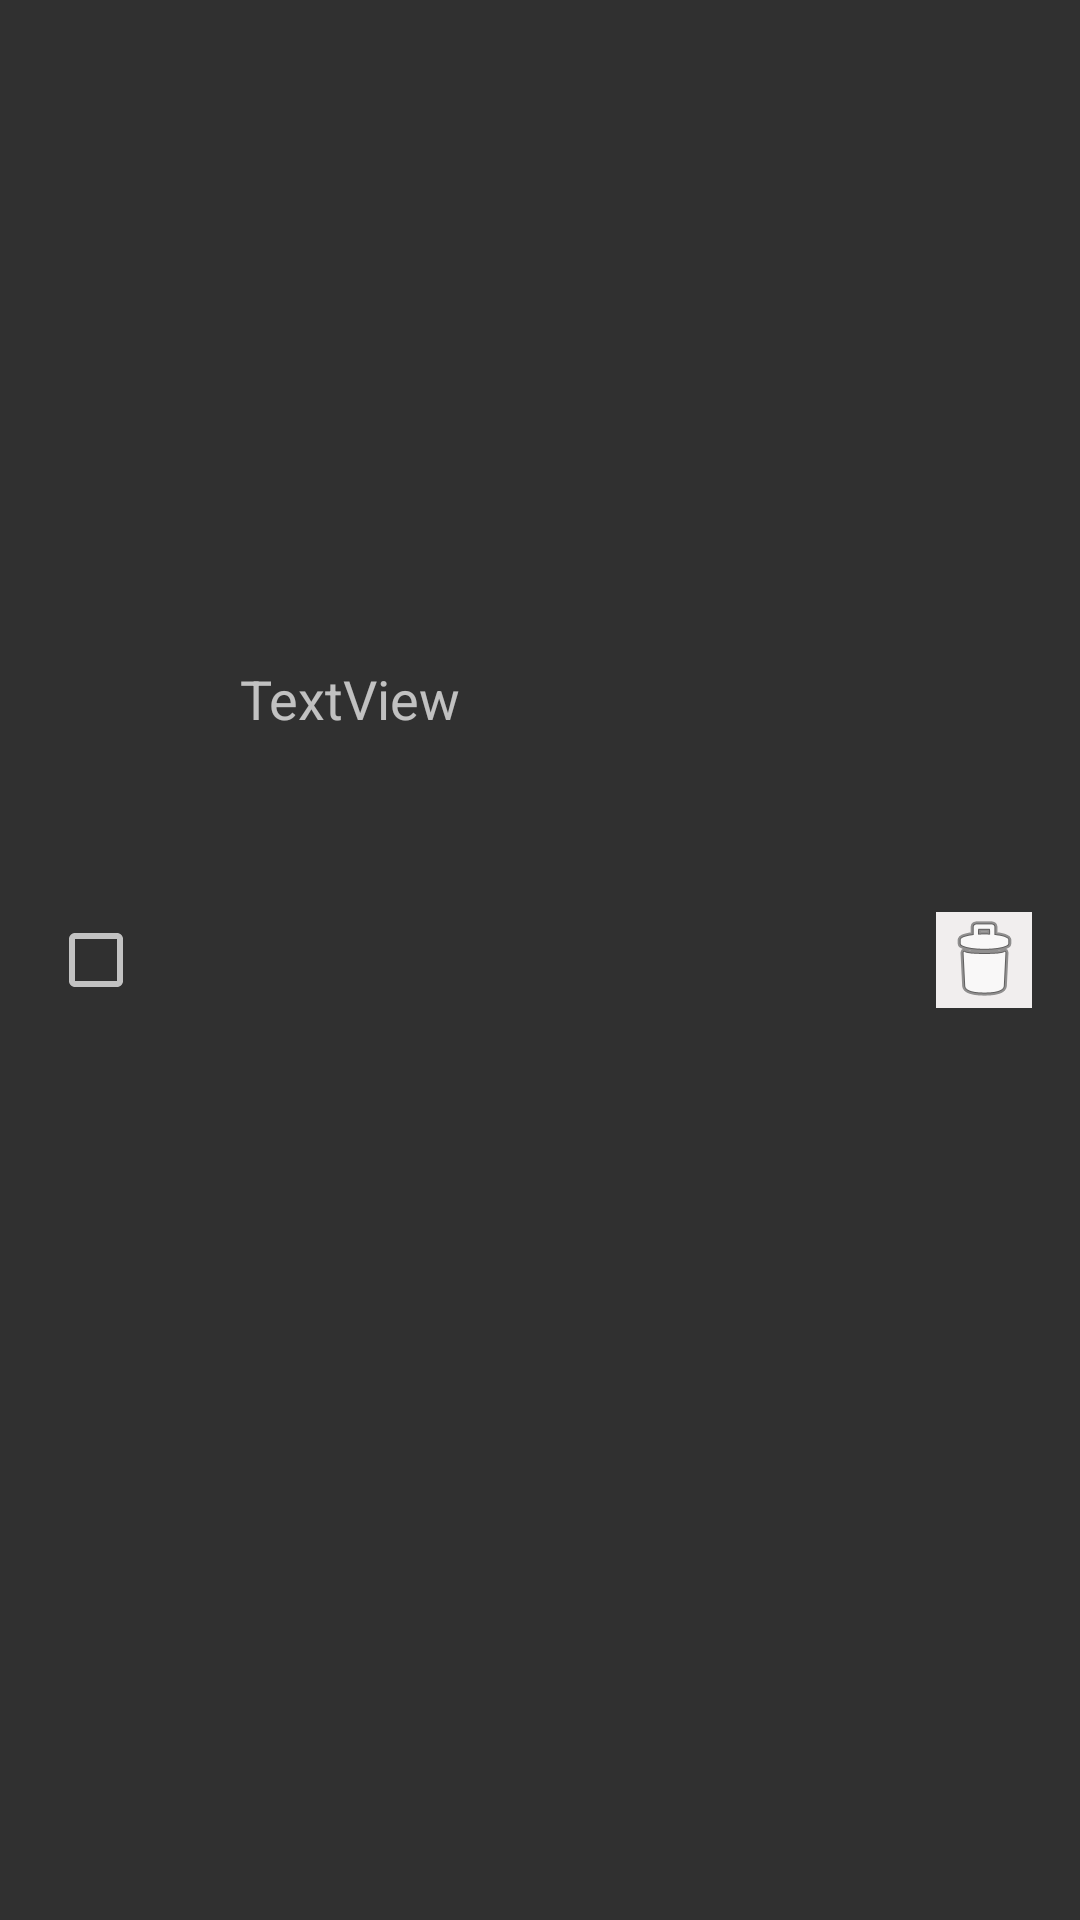

Icons on this 1080*1920 Android screen, each with the point to tap as [x,y]:
delete: [984,960]
